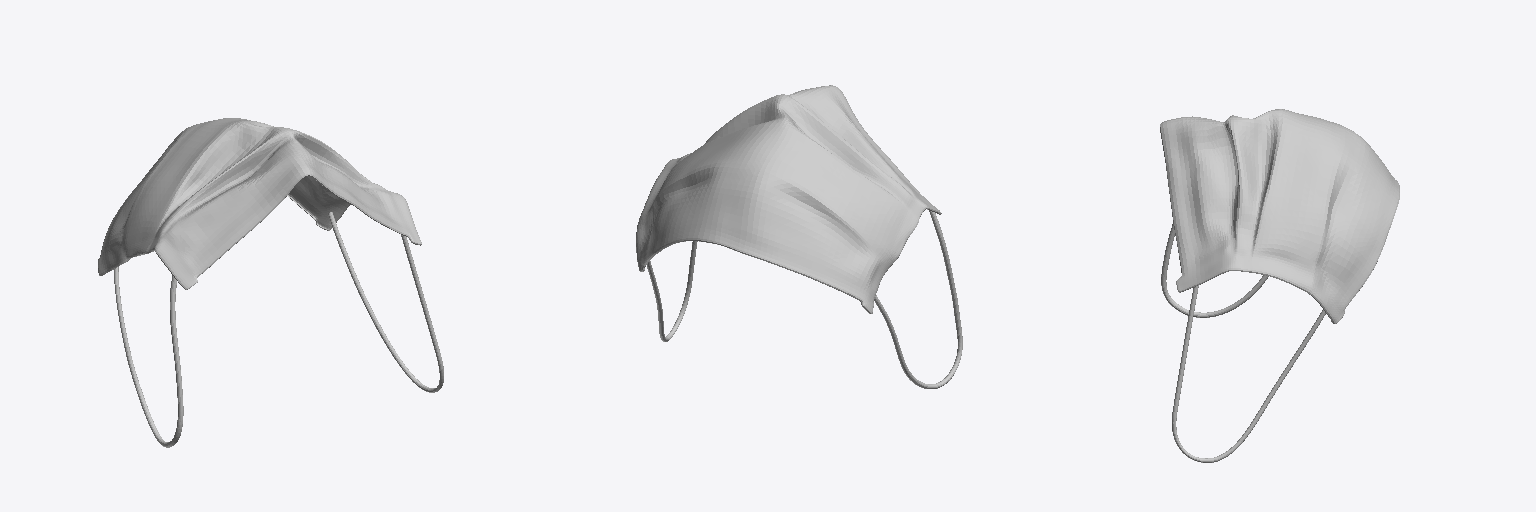
The model's file is face-mask.obj.
3 renders of one model, left to right at view 1: azimuth 30°, elevation 25°; view 2: azimuth 150°, elevation 25°; view 3: azimuth 270°, elevation 25°, orthographic.
Parts seen in each view (by area): view 1: FaceMask_Main_Mesh; view 2: FaceMask_Main_Mesh; view 3: FaceMask_Main_Mesh.
Part boxes in pixels (bbox=[...]): FaceMask_Main_Mesh: bbox=[98, 118, 443, 447]; FaceMask_Main_Mesh: bbox=[636, 85, 962, 388]; FaceMask_Main_Mesh: bbox=[1160, 109, 1399, 462].
Bounding box in the file's own units: 2.44 × 2.4 × 1.85.